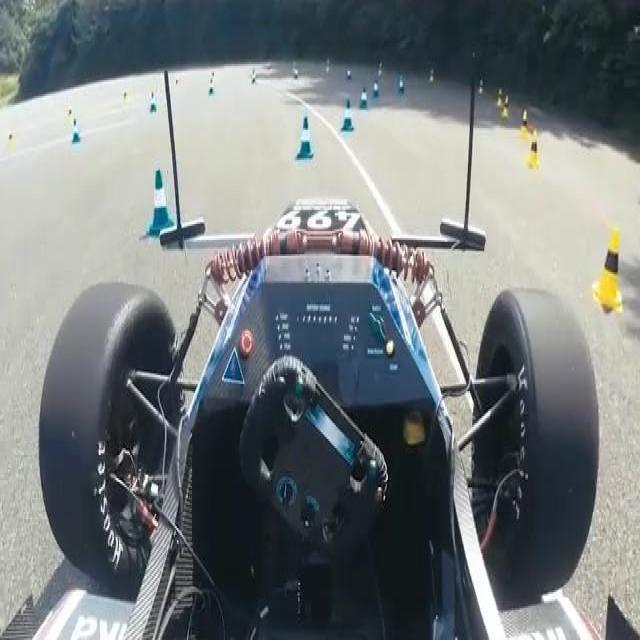blue_cone: (148, 169, 177, 238), (296, 115, 315, 158), (341, 98, 355, 131), (71, 119, 81, 144), (360, 85, 369, 112)
yellow_cone: (593, 226, 623, 312), (526, 130, 540, 171), (518, 110, 529, 138)
